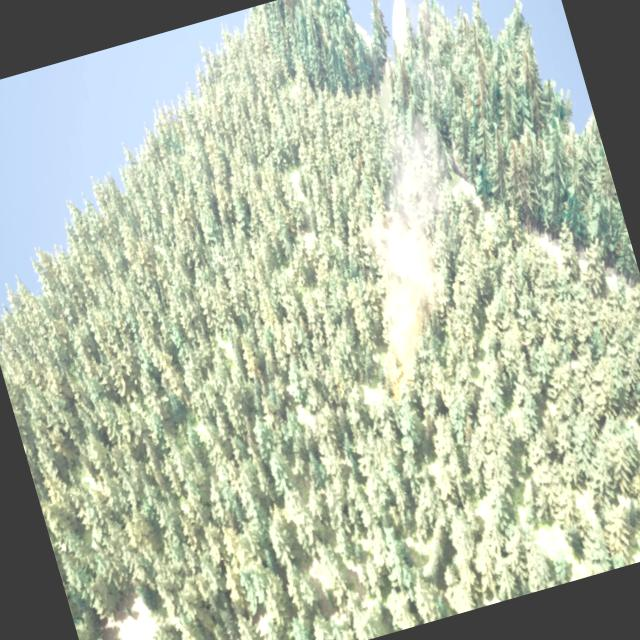smoke: (318, 91, 507, 378)
